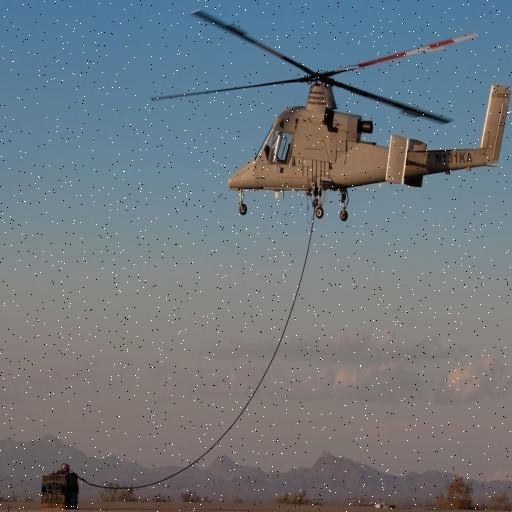helicopter: (152, 11, 512, 225)
